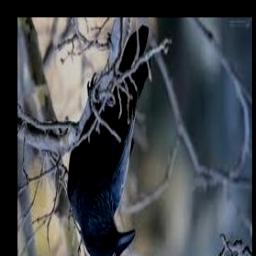Crow: (67, 24, 151, 256)
